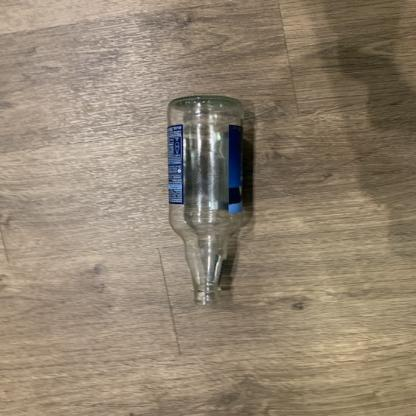trash: (162, 96, 248, 309)
